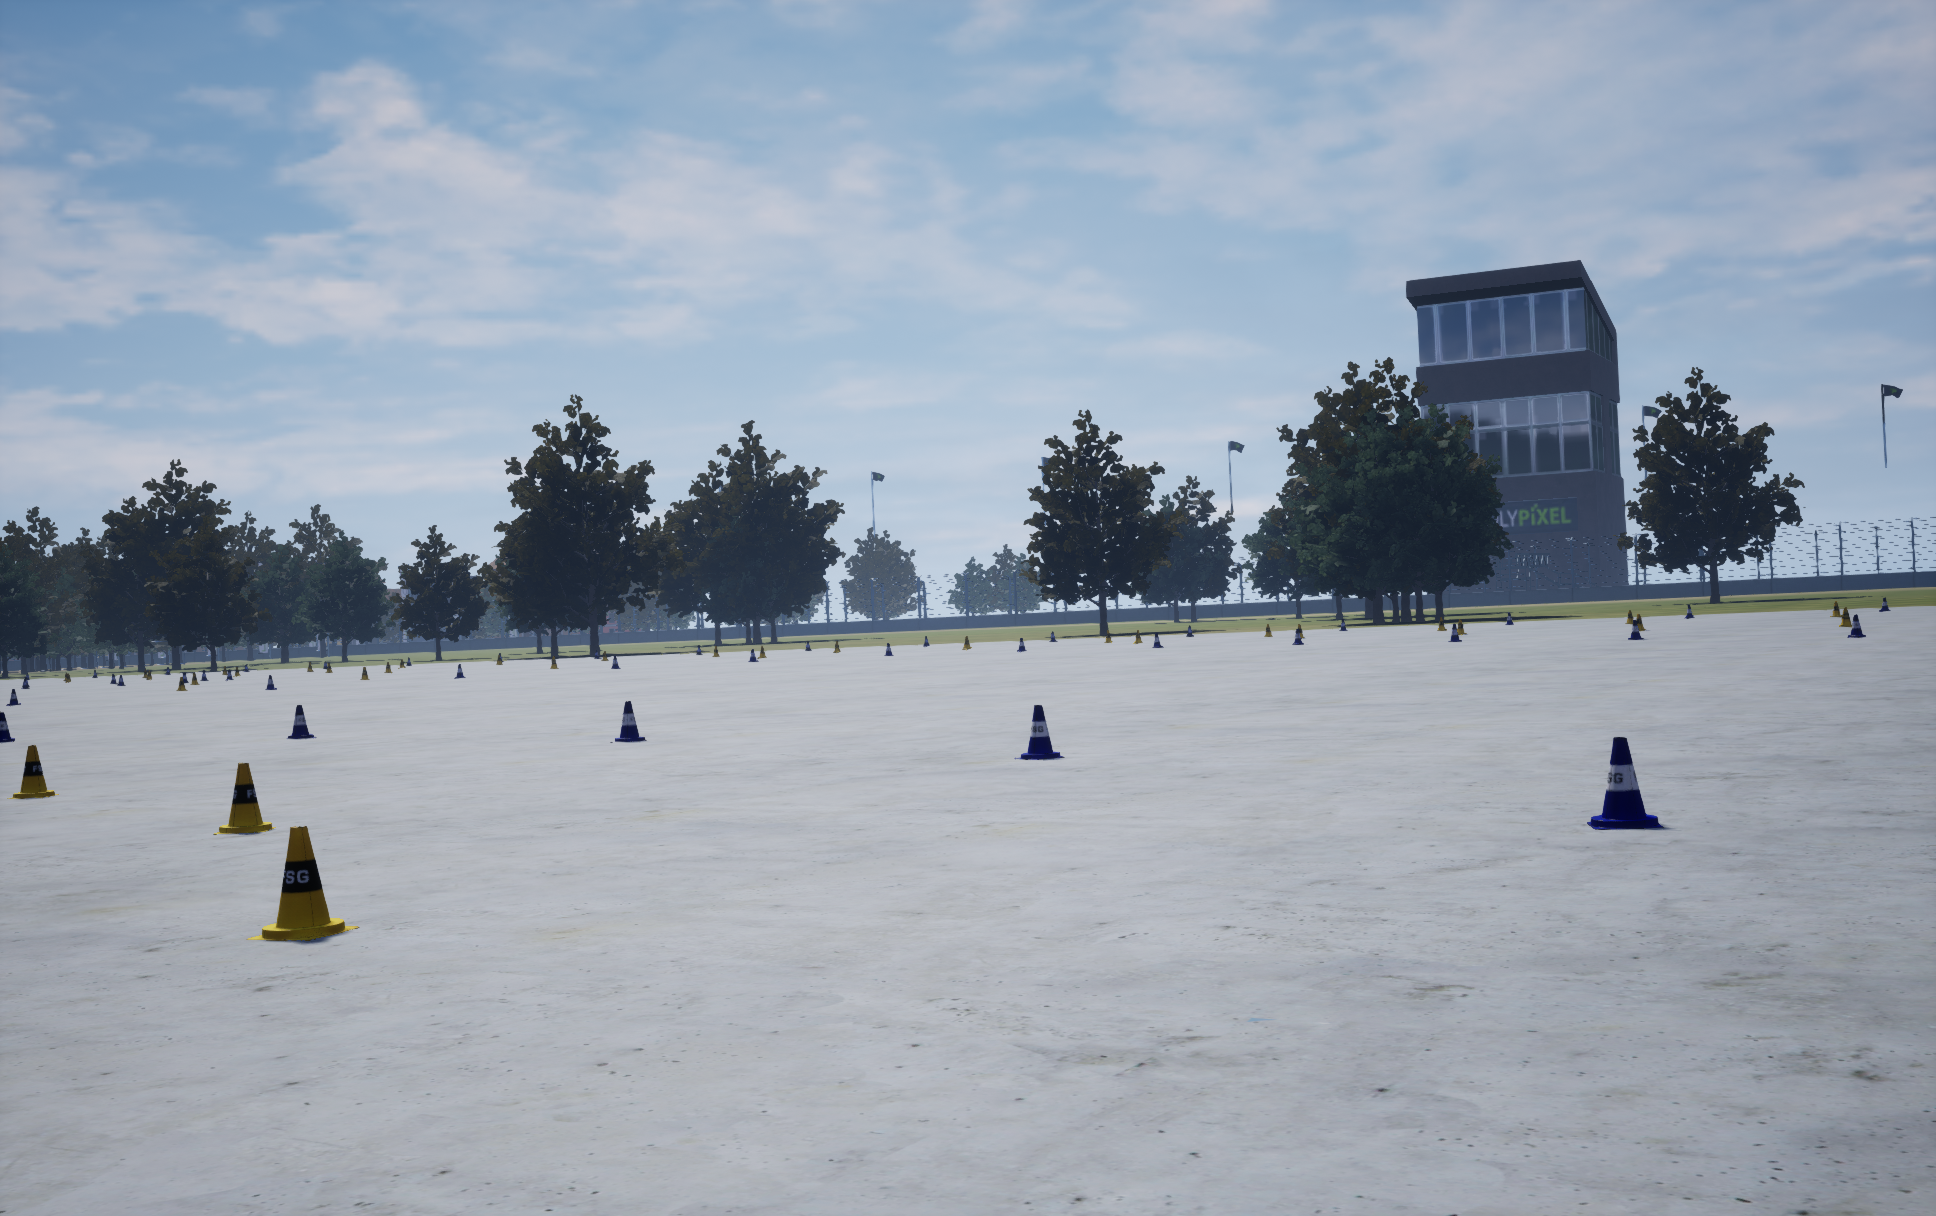blue: (247, 827, 359, 940), (213, 764, 275, 834), (7, 745, 57, 799)
yellow: (1587, 737, 1663, 829), (1014, 705, 1065, 759), (609, 700, 646, 742), (286, 705, 317, 738), (1846, 614, 1865, 637), (0, 712, 14, 742), (1628, 621, 1643, 639)
